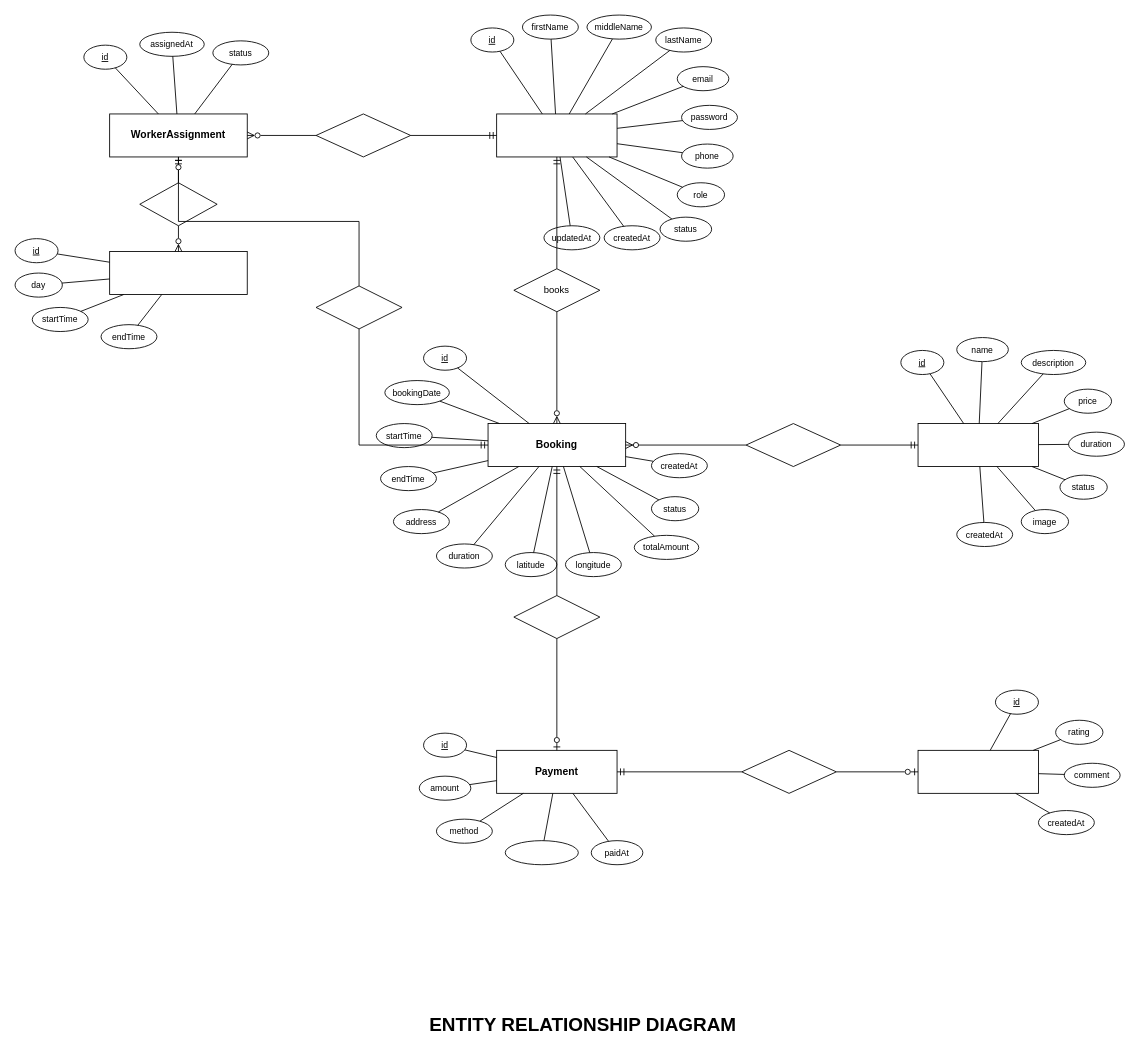
Some shapes in this 1140 by 1058 pixel diagram are drawn without their labels. The shapes that lost their labels are listed below. From the top down, each one's box as (x1, y1, x2, y2) in pixels, then its label:
(315, 113, 411, 157): assigned
(496, 113, 617, 157): User
(139, 182, 217, 226): defines
(109, 251, 247, 295): WorkerAvailability
(315, 285, 402, 329): allocates
(745, 423, 841, 467): contains
(917, 423, 1038, 467): Service
(513, 595, 600, 639): generates
(741, 749, 836, 793): reviewed in
(917, 749, 1038, 793): Review
(504, 840, 578, 865): paymentStatus
